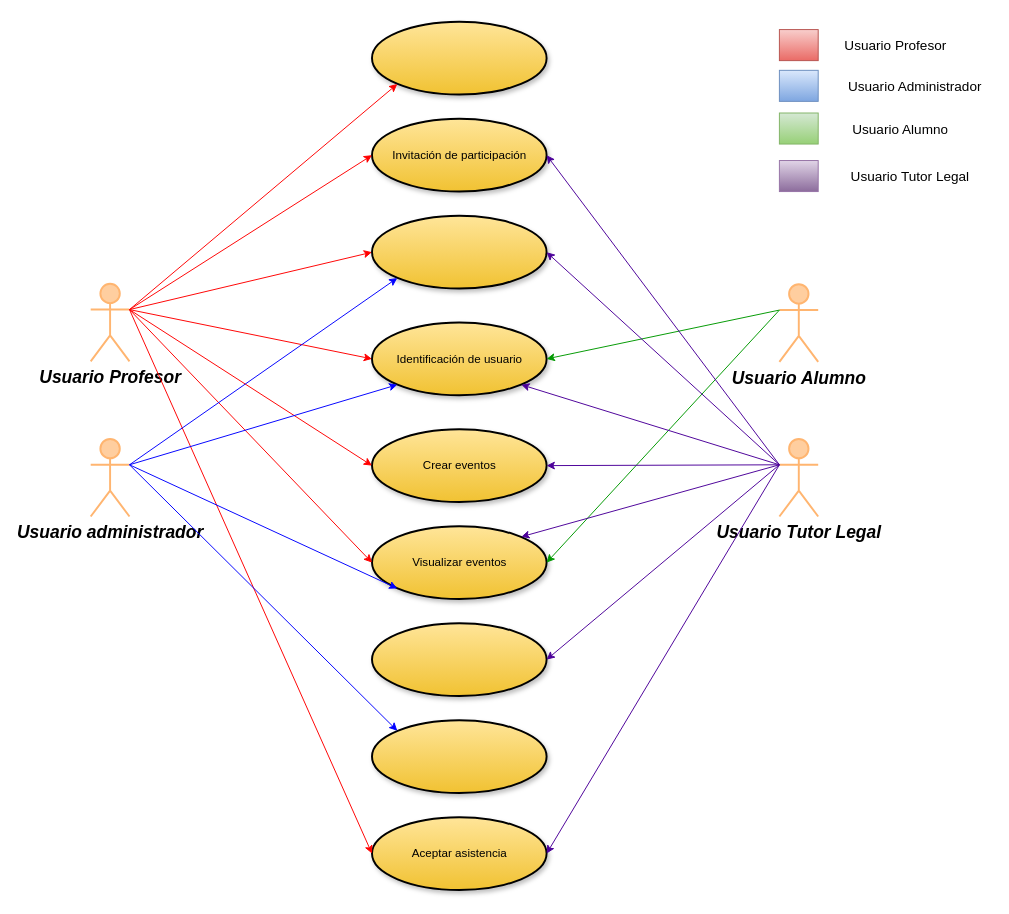
This 1009x914 diagram has some shape labels left out. Each missing label, with the centre of its shape:
Evaluar alumnado: point (460, 59)
Gestionar usuarios: point (460, 757)
Modificar datos personales: point (460, 660)
Modificar Eventos: point (460, 253)
